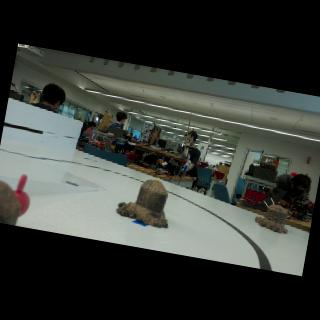teletubby: (14, 175, 30, 216), (157, 178, 160, 181)
